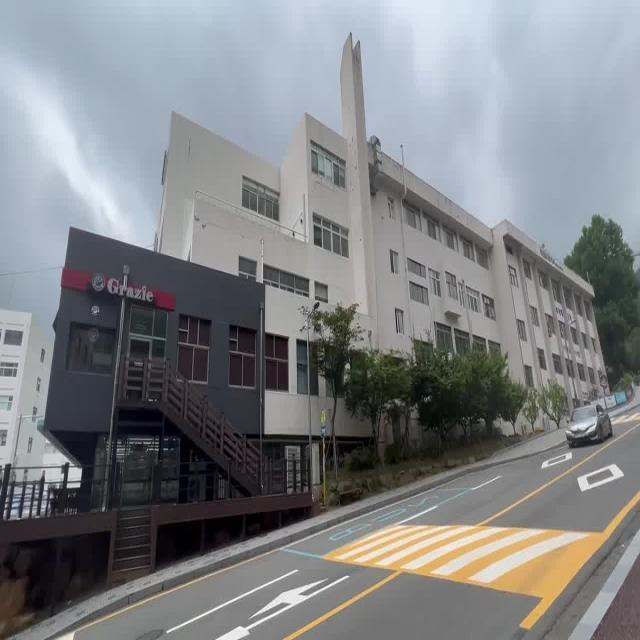building: (54, 94, 312, 506)
